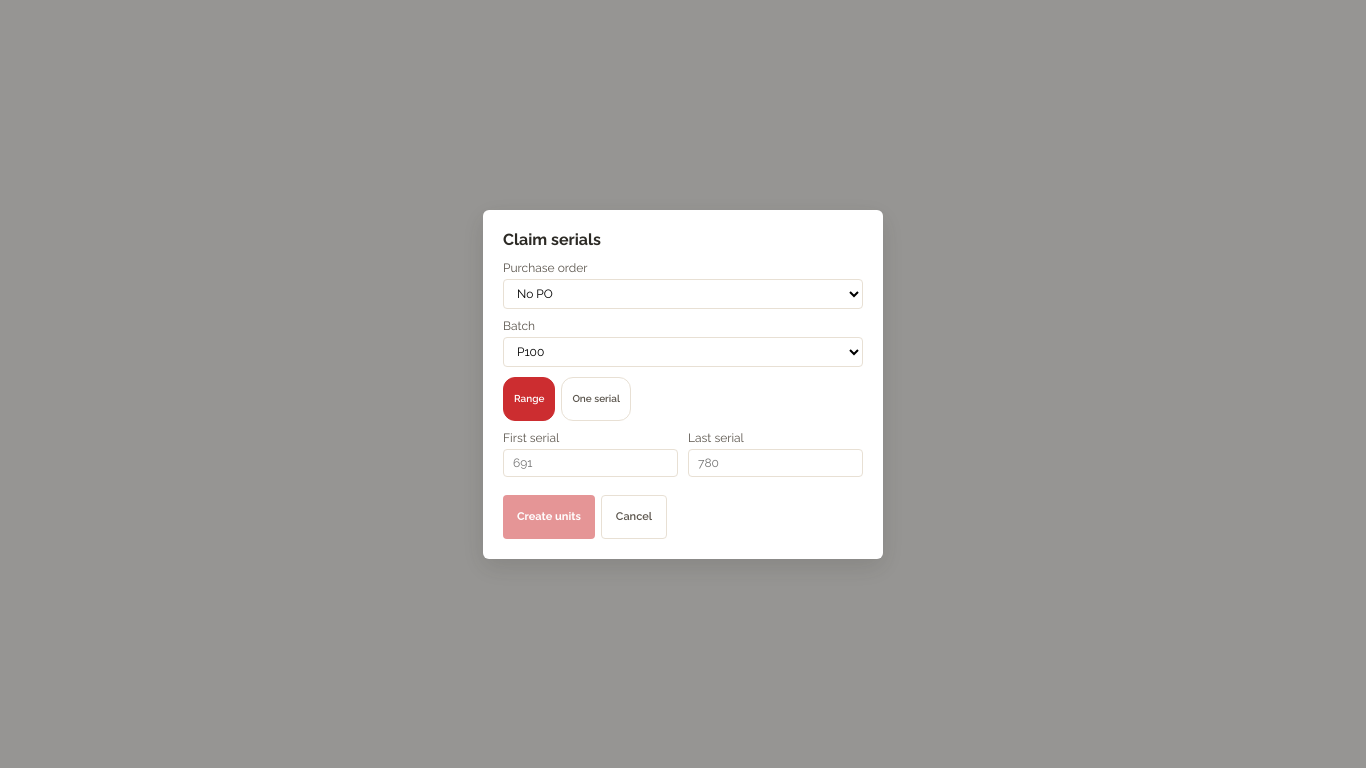
Test: ClaimSerialsModal › picking a PO locks the batch to the PO's batch
Expected: the dropdown labelled "Batch" shows "P100", [503,336,863,366]
Expected: the dropdown labelled "Batch" is enabled, [503,336,863,366]
Step 1. Select "PO-1012 · P300" in the dropdown labelled "Purchase order" → (683, 294), box [503,278,863,308]
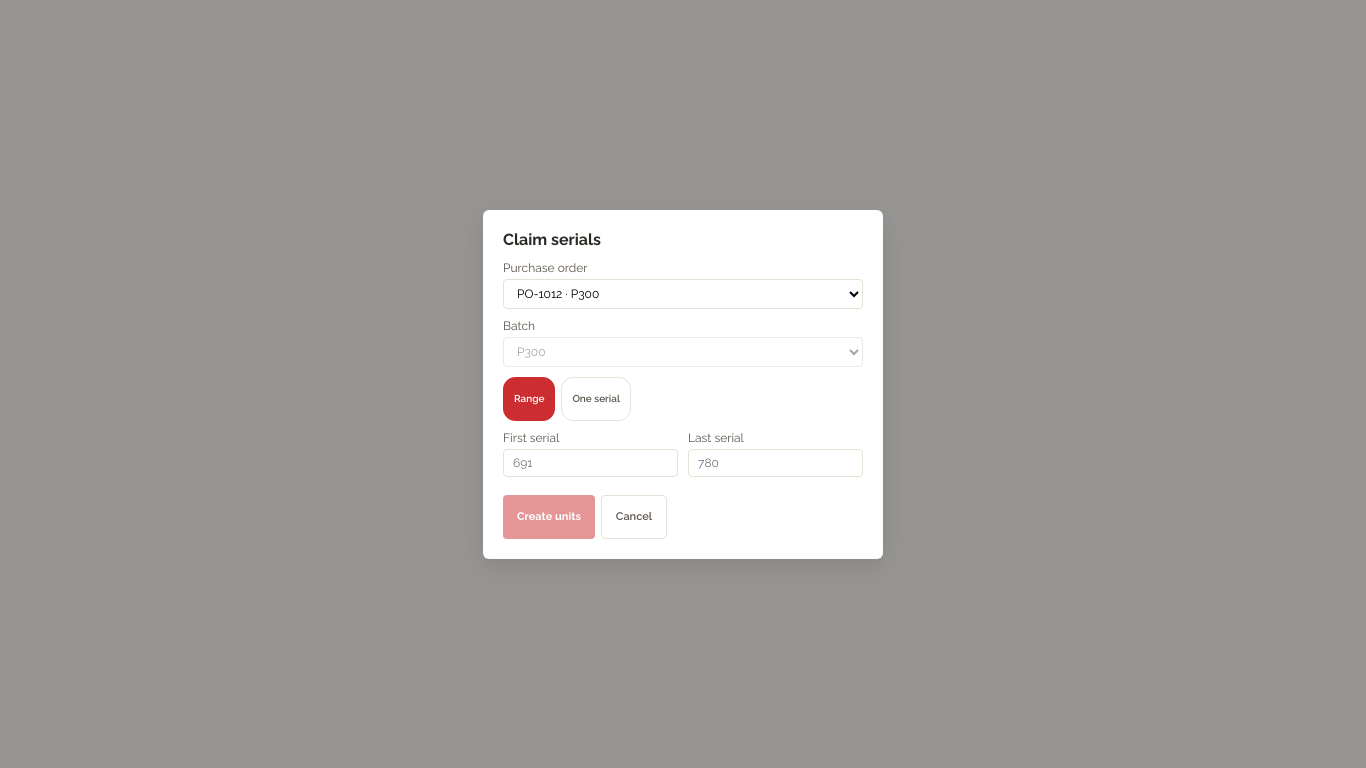
Expected: the dropdown labelled "Batch" shows "P300", [503,336,863,366]
Expected: the dropdown labelled "Batch" is disabled, [503,336,863,366]
